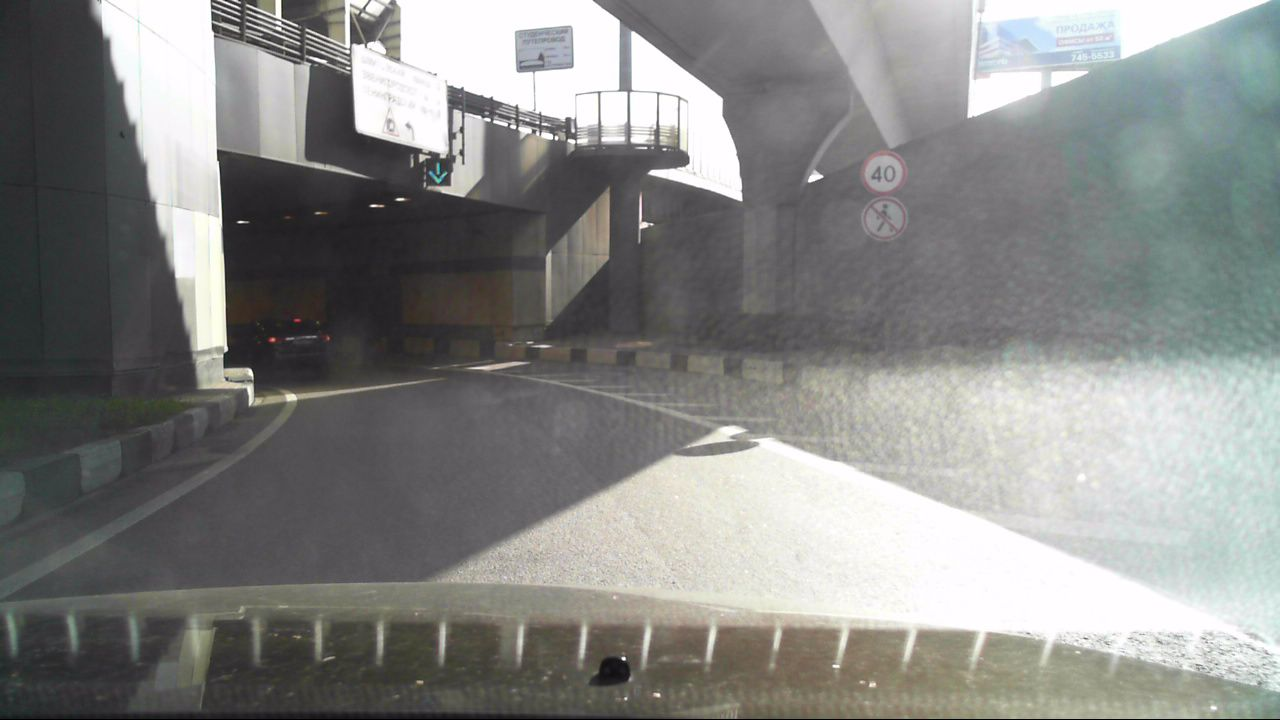speed_warning_40: (860, 150, 907, 195)
